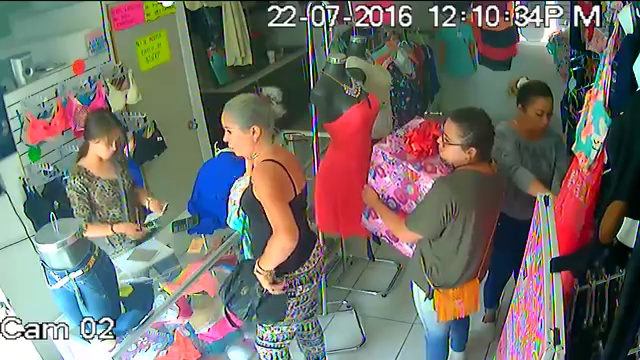face: (438, 122, 467, 162), (220, 114, 248, 154), (90, 129, 123, 160), (527, 94, 552, 132)
